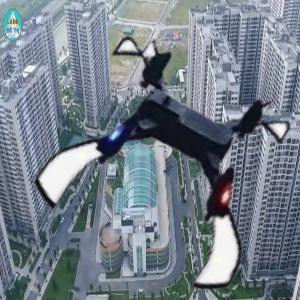drone: (59, 53, 287, 281)
